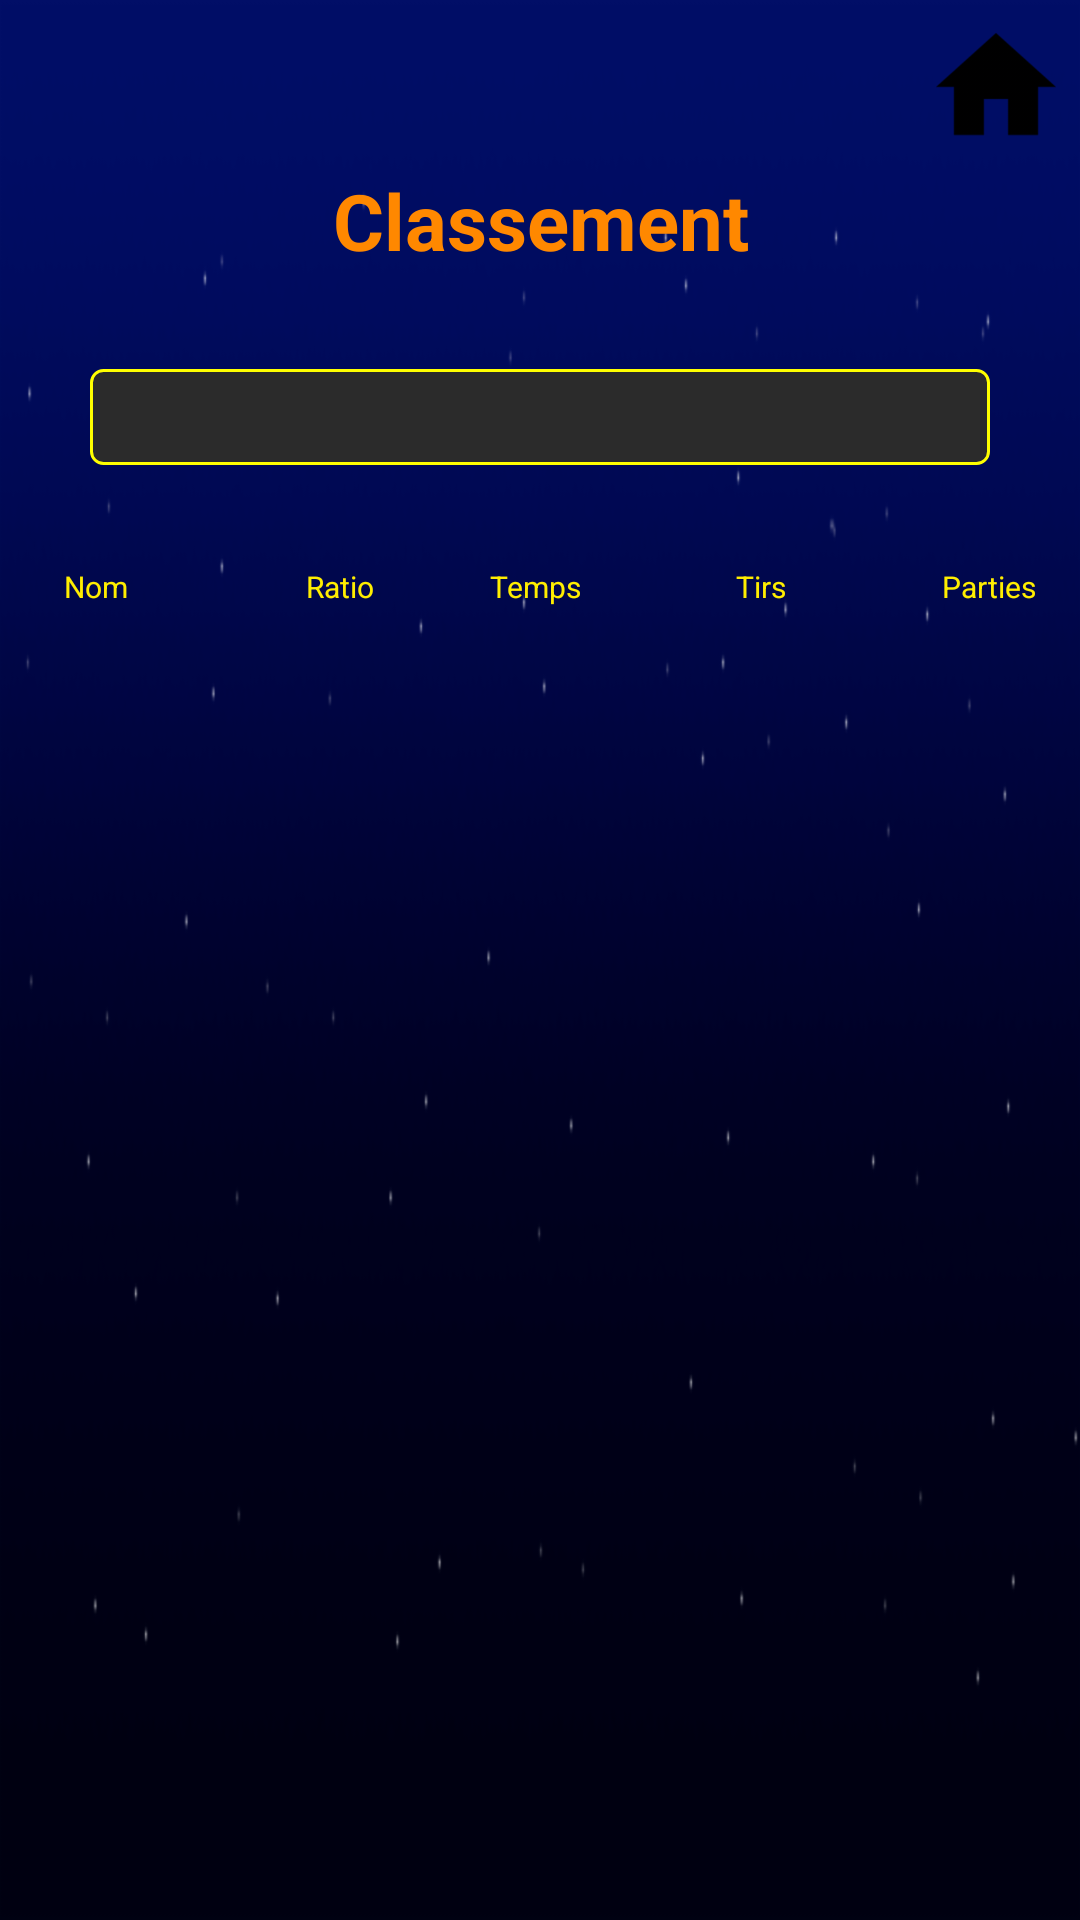

Locate icon controls on the screen. Image size 1080x1920, boxes as (x1, y1, x2, y2).
home: (936, 33, 1056, 135)
